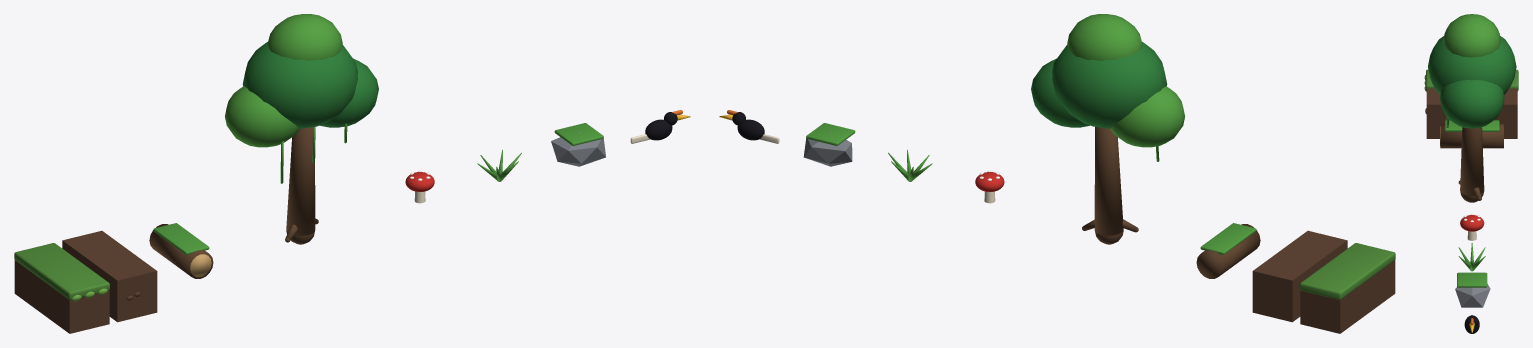
Rendered from kit_forest.glb.
3 renders of one model, left to right at view 1: azimuth 30°, elevation 25°; view 2: azimuth 150°, elevation 25°; view 3: azimuth 270°, elevation 25°, orthographic. The views are drawn at different scales.
Visible parts, largest first — view 1: Canopy0, for_TF, for_TT_dirt, Canopy1, for_TT_cap, TrunkMain, Canopy3, Canopy2, RockMesh, LogBody, Moss, RockMoss; view 2: Canopy0, for_TF, for_TT_dirt, TrunkMain, for_TT_cap, Canopy1, Canopy3, Canopy2, LogBody, RockMesh, Moss, RockMoss; view 3: Canopy0, Canopy2, Canopy3, TrunkMain, for_TF, LogBody, RockMesh, RockMoss, Cap, Moss, for_TT_cap, HbBody (+1 smaller).
Part boxes in pixels (x1,y1,x2,y2): Canopy0: [242, 41, 357, 128]; for_TF: [62, 230, 157, 322]; for_TT_dirt: [14, 260, 109, 333]; Canopy1: [225, 86, 299, 147]; for_TT_cap: [14, 243, 109, 299]; TrunkMain: [286, 127, 315, 244]; Canopy3: [267, 14, 342, 60]; Canopy2: [320, 58, 378, 127]; RockMesh: [551, 132, 605, 166]; LogBody: [149, 224, 213, 278]; Moss: [153, 223, 209, 254]; RockMoss: [554, 123, 603, 145]; Canopy0: [1052, 41, 1167, 128]; for_TF: [1252, 230, 1347, 322]; for_TT_dirt: [1300, 260, 1395, 333]; TrunkMain: [1094, 127, 1123, 244]; for_TT_cap: [1300, 243, 1395, 299]; Canopy1: [1110, 86, 1184, 147]; Canopy3: [1067, 14, 1142, 60]; Canopy2: [1031, 58, 1089, 127]; LogBody: [1196, 224, 1260, 278]; RockMesh: [803, 132, 852, 166]; Moss: [1200, 223, 1256, 254]; RockMoss: [806, 123, 855, 145]; Canopy0: [1428, 36, 1516, 94]; Canopy2: [1439, 80, 1504, 128]; Canopy3: [1443, 14, 1500, 57]; TrunkMain: [1460, 127, 1484, 202]; for_TF: [1426, 88, 1517, 138]; LogBody: [1440, 124, 1503, 148]; RockMesh: [1455, 278, 1490, 307]; RockMoss: [1457, 272, 1487, 287]; Cap: [1460, 215, 1484, 231]; Moss: [1445, 120, 1499, 131]; for_TT_cap: [1426, 69, 1518, 90]; HbBody: [1464, 315, 1479, 333].
Size of the model in its own units: 16.32 by 5.58 by 2.48.
